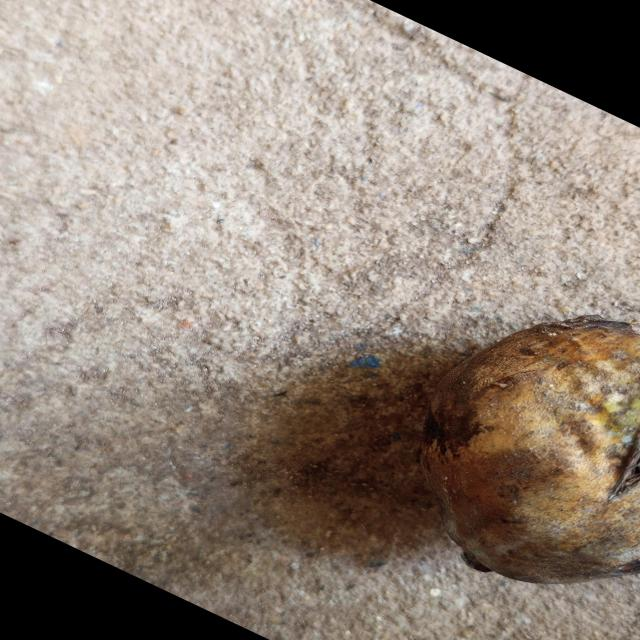damaged: (421, 316, 640, 583)
